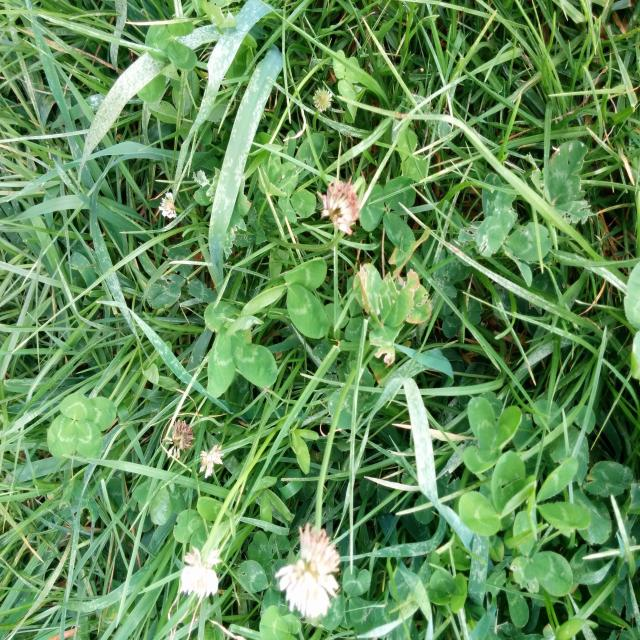Four Leaf Clover: (47, 392, 117, 458)
